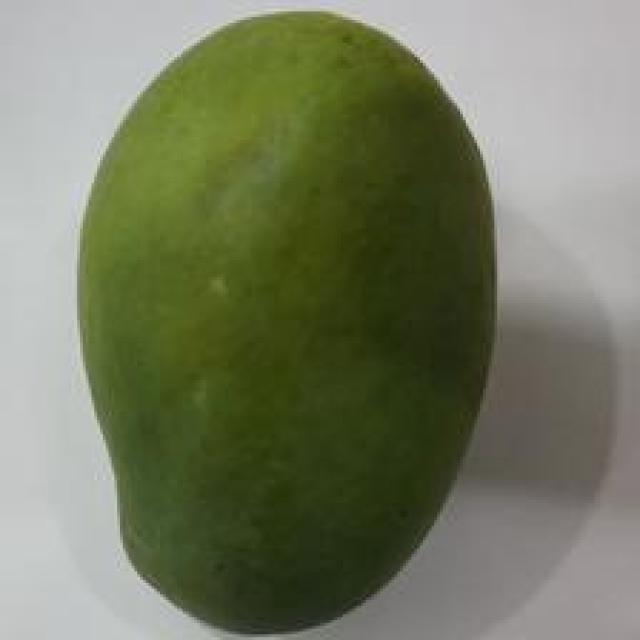Good_Mango: (71, 11, 500, 640)
